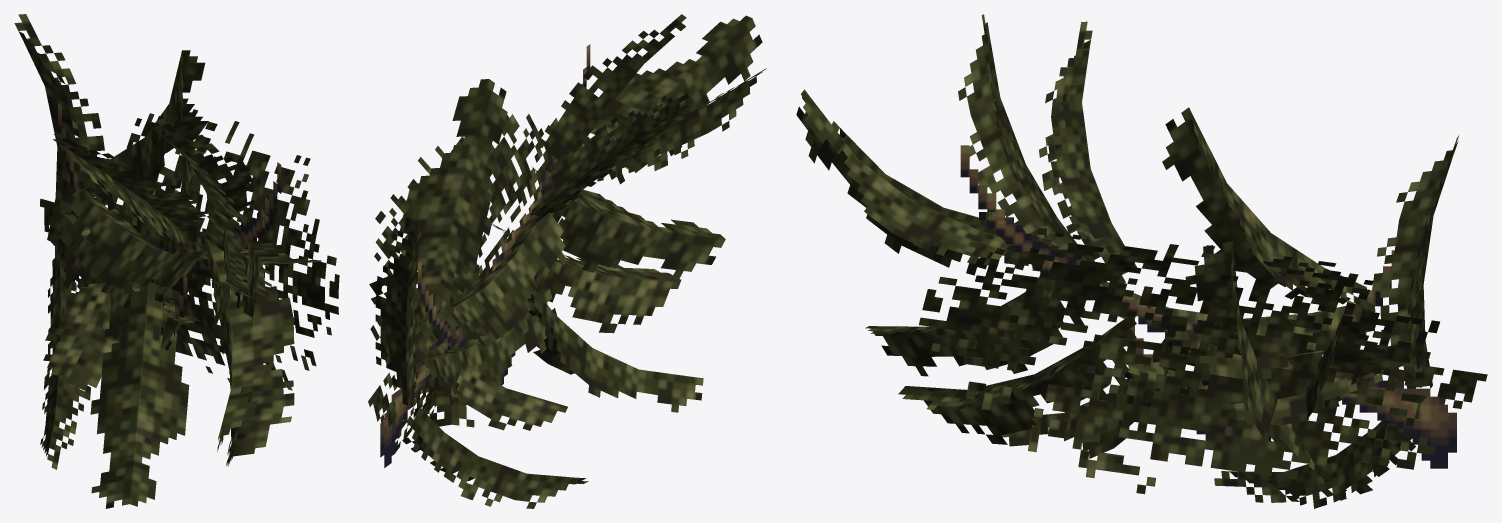
Rendered from ObjMD_Tree_Forest_A_Small_R.FBX.
The picture shows the model from 3 angles, left to right: view 1: azimuth 30°, elevation 25°; view 2: azimuth 150°, elevation 25°; view 3: azimuth 270°, elevation 25°; orthographic projection. The views are drawn at different scales.
Visible parts, largest first — view 1: ObjMD_Tree_Forest_A_Small_R; view 2: ObjMD_Tree_Forest_A_Small_R; view 3: ObjMD_Tree_Forest_A_Small_R.
Boxes of the visible parts, <box> form: ObjMD_Tree_Forest_A_Small_R: <box>14,14,339,508</box>; ObjMD_Tree_Forest_A_Small_R: <box>368,14,766,508</box>; ObjMD_Tree_Forest_A_Small_R: <box>796,14,1487,508</box>.
Size of the model in its own units: 163 by 278 by 366.
